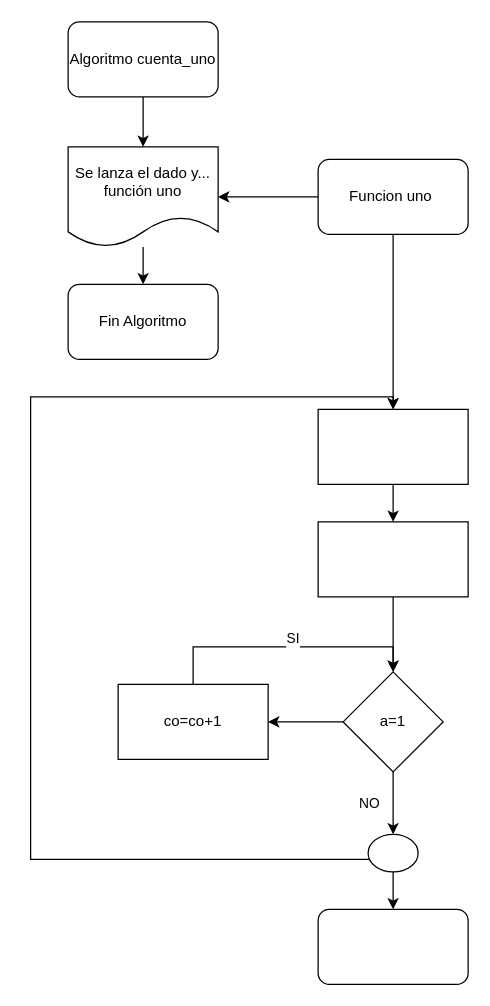
The diagram is 490 pixels wide and 1006 high, and some of its shapes have lost their labels. The shapes that lost their labels are listed below. From the top down, each one's centre as x and y in pixels, then its label:
At point 392,446: "Para 1=1 hasta 50 con paso 1 hacer".
At point 392,559: "a=Aleatorio(1,6) i=i+1".
At point 392,946: "Fin funcion".
